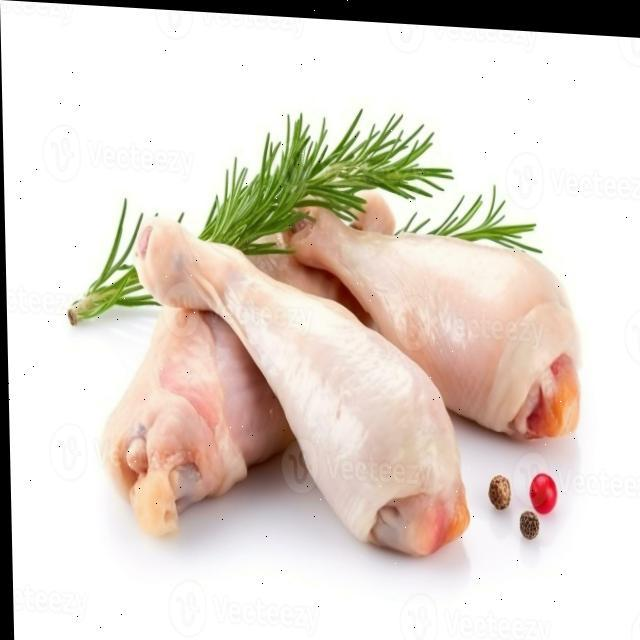leg: (69, 146, 394, 514), (131, 207, 457, 564), (284, 186, 581, 438)
